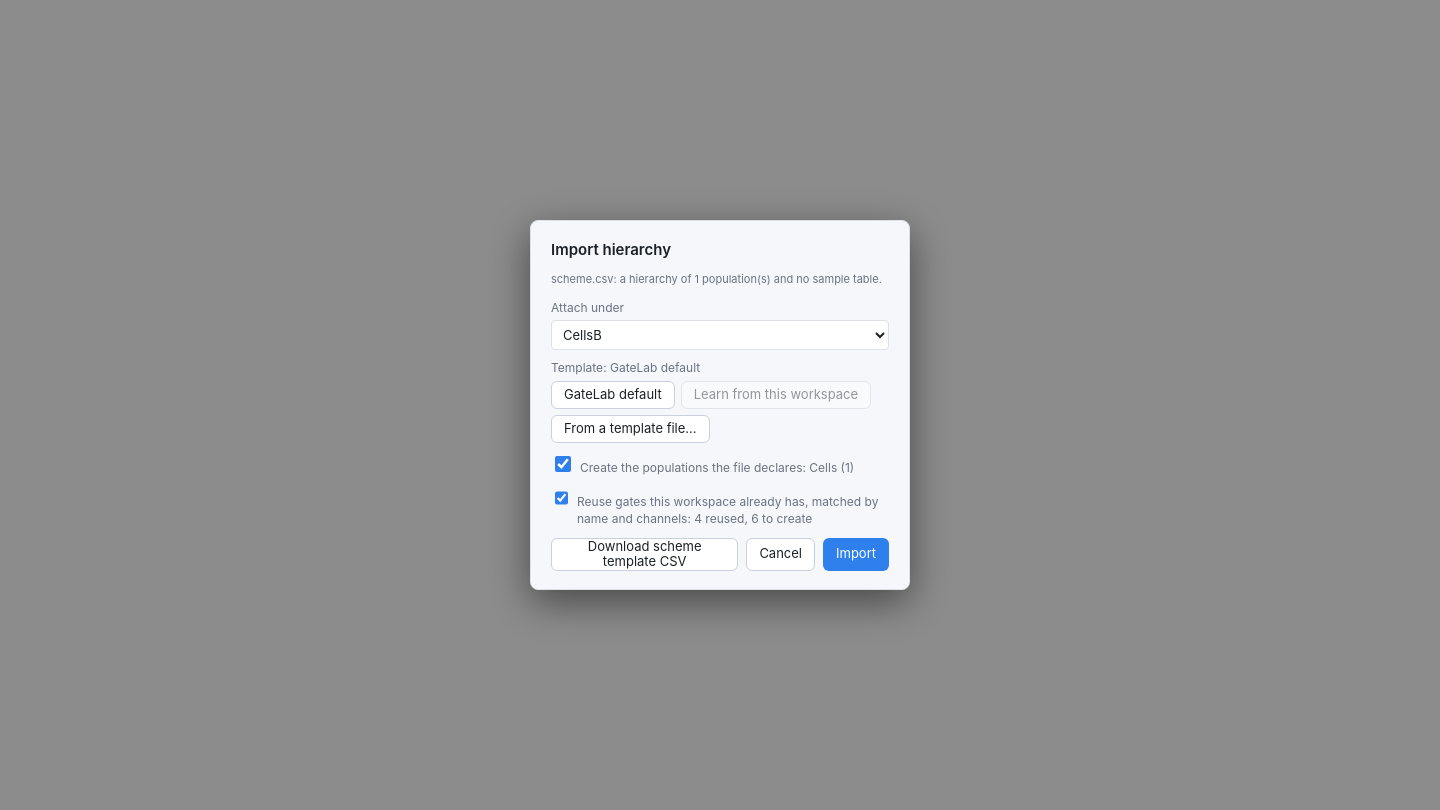
BarcodeSchemeImportModal › imports a hierarchy-only file without planes, and needs the populations to be on
Click the button "Import" at (856, 554), box [823,538,889,571]
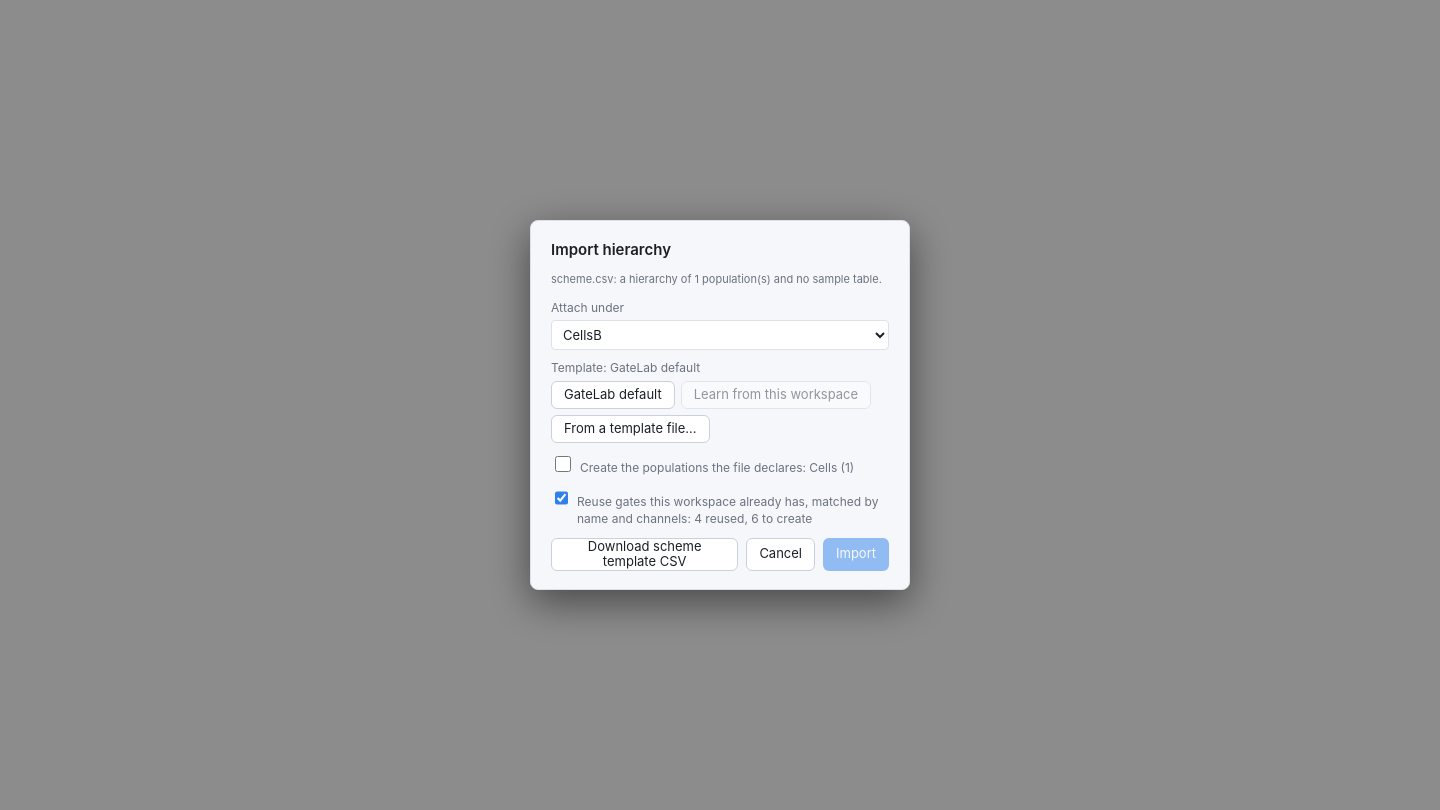
Now the button "Import" is disabled, box [823,538,889,571]
